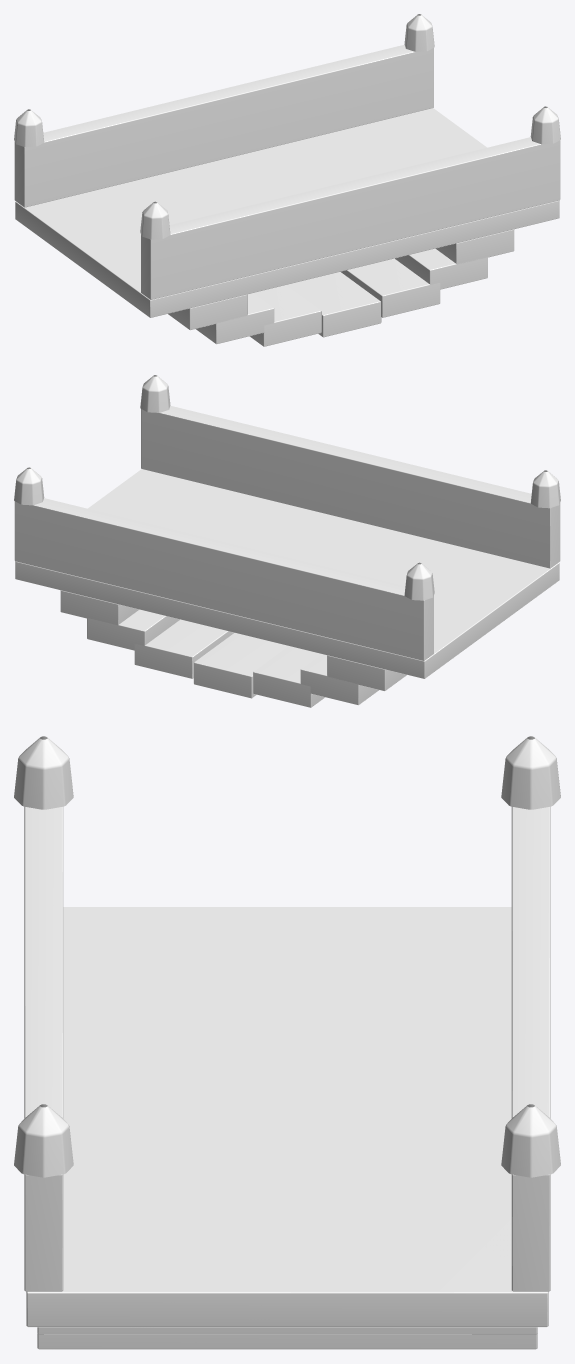
The model's file is bridge.glb.
3 views of the same model, one above another, from view 1: azimuth 30°, elevation 25°; view 2: azimuth 150°, elevation 25°; view 3: azimuth 270°, elevation 25° (orthographic). The views are drawn at different scales.
Parts seen in each view (by area): view 1: Bridge; view 2: Bridge; view 3: Bridge.
Part boxes in pixels (box(x1,y1,x2,y2)): Bridge: box(14, 14, 560, 346); Bridge: box(14, 375, 560, 707); Bridge: box(14, 736, 560, 1349).
Size of the model in its own units: 4.27 by 1.71 by 2.51.
Materials: 1 (1 with a texture image).
